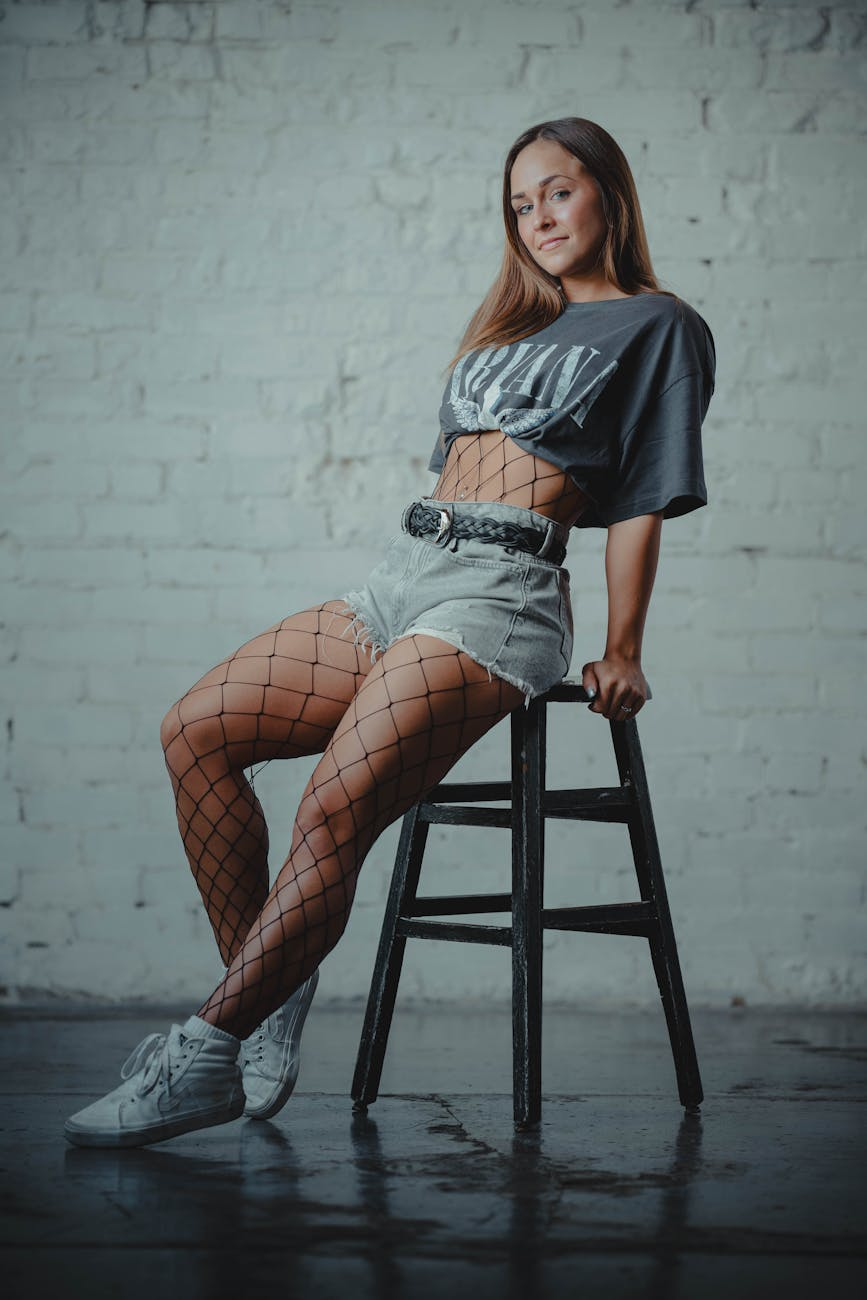crop_top: (405, 289, 691, 503)
short_medium_skirt: (321, 511, 583, 690)
shorts: (327, 512, 585, 689)
